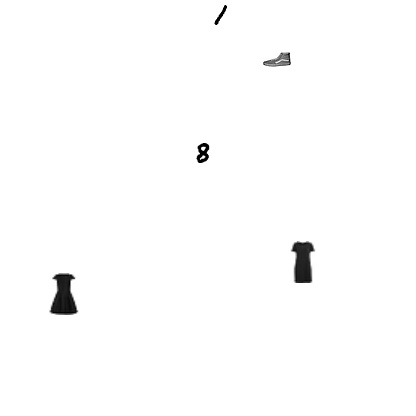1: (206, 1, 234, 29)
8: (189, 139, 217, 167)
Dress: (282, 241, 324, 283), (42, 273, 84, 315)
Sneaker: (263, 45, 291, 73)
